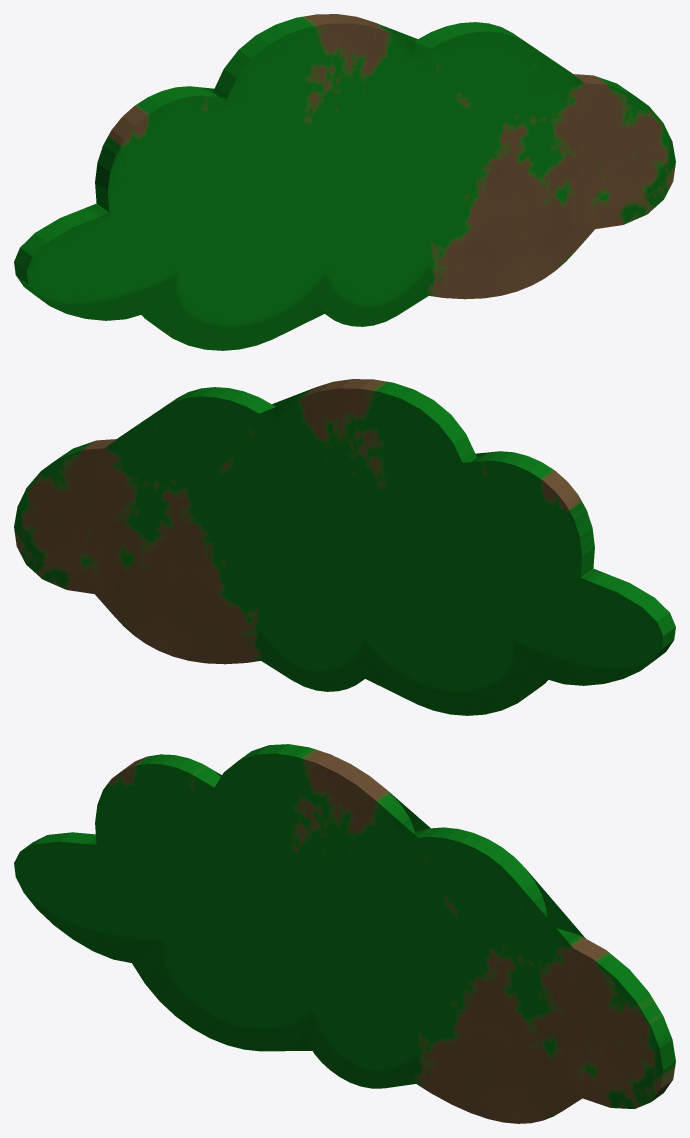
File: arbusto 1.fbx
3 views of the same model, one above another, from view 1: azimuth 30°, elevation 25°; view 2: azimuth 150°, elevation 25°; view 3: azimuth 330°, elevation 25° (orthographic).
Visible parts, largest first — view 1: arbusto 1; view 2: arbusto 1; view 3: arbusto 1.
Boxes of the visible parts, x1=… form: arbusto 1: x1=14, y1=14, x2=675, y2=350; arbusto 1: x1=14, y1=379, x2=675, y2=715; arbusto 1: x1=14, y1=744, x2=675, y2=1123.
Bounding box in the file's own units: 520 × 242 × 17.73.
1 material, 1 textured.
